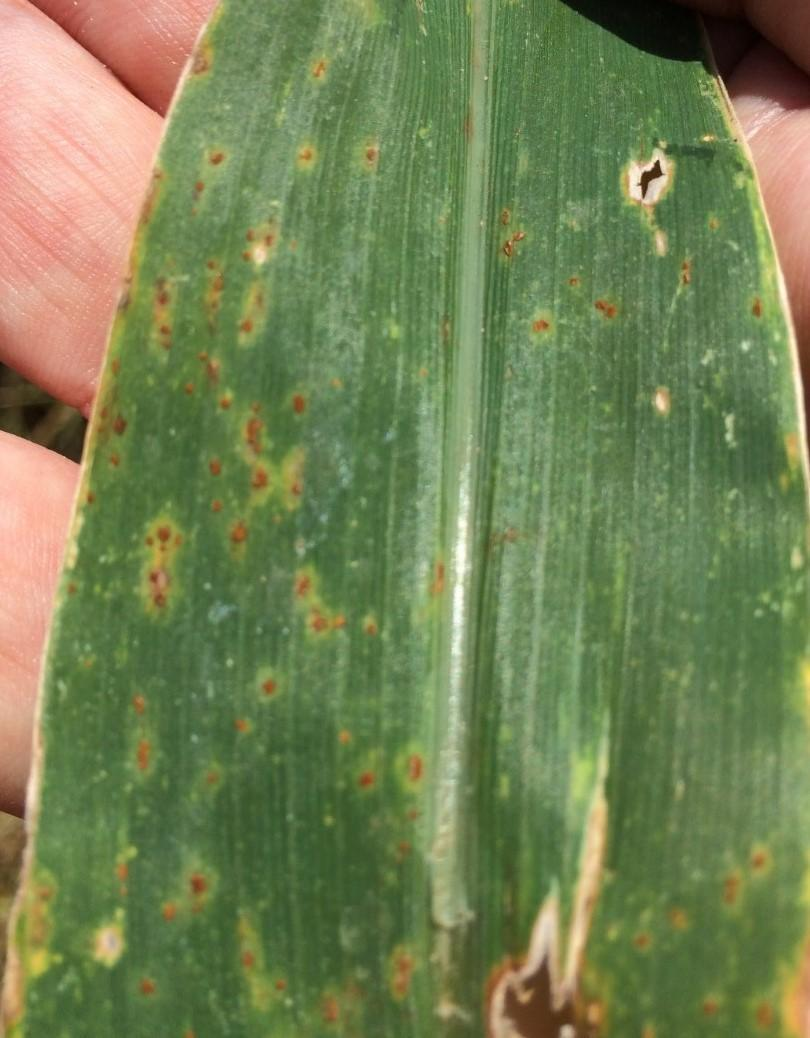Corn_Common_Rust: (0, 21, 395, 1038), (494, 120, 796, 354), (467, 705, 649, 1038), (641, 821, 810, 1038), (407, 530, 525, 617), (637, 372, 695, 451), (397, 912, 438, 1017), (771, 412, 810, 503), (405, 711, 430, 829)
